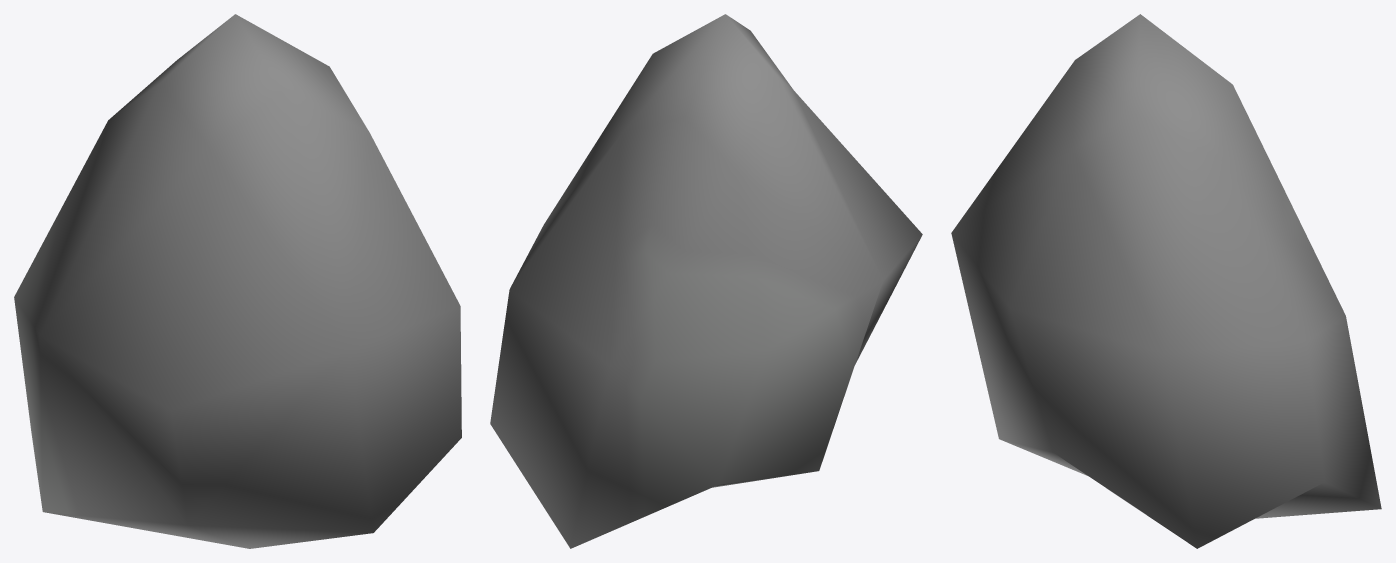
The model's file is StoneChunk2.fbx.
3 views of the same model, side by side, from view 1: azimuth 30°, elevation 25°; view 2: azimuth 150°, elevation 25°; view 3: azimuth 270°, elevation 25° (orthographic). The views are drawn at different scales.
Visible parts, largest first — view 1: StoneChunk2; view 2: StoneChunk2; view 3: StoneChunk2.
Boxes of the visible parts, <box> form: StoneChunk2: <box>14,14,461,548</box>; StoneChunk2: <box>490,14,922,548</box>; StoneChunk2: <box>951,14,1381,548</box>.
Bounding box in the file's own units: 0.9946 × 1.27 × 1.01.
Materials: 1 (1 with a texture image).
